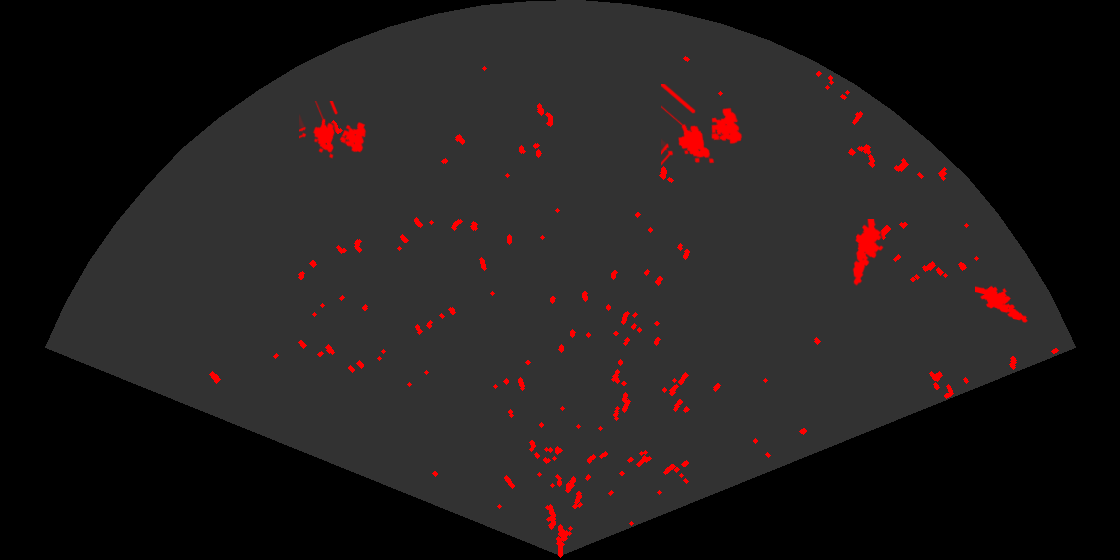cage: (661, 84, 744, 168), (299, 101, 368, 160)
frogman: (851, 219, 885, 286), (975, 284, 1030, 324)
